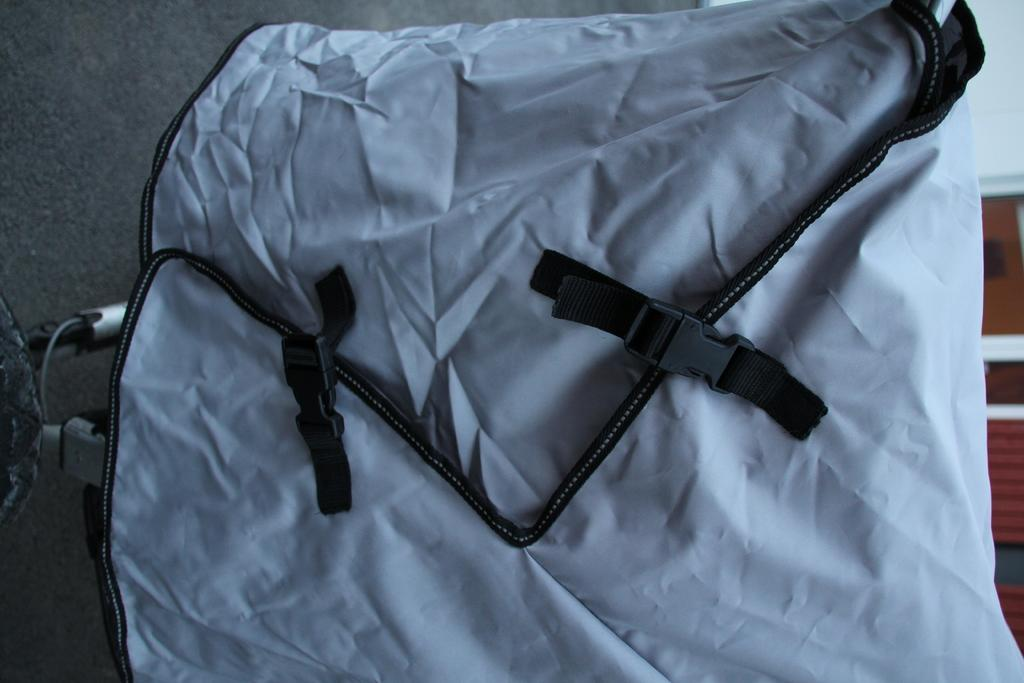Luggage-and-bags: (84, 3, 947, 683)
